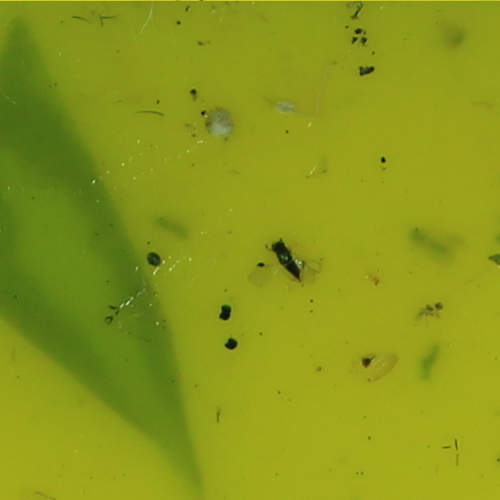Psyllaephagus: (272, 241, 301, 279)
